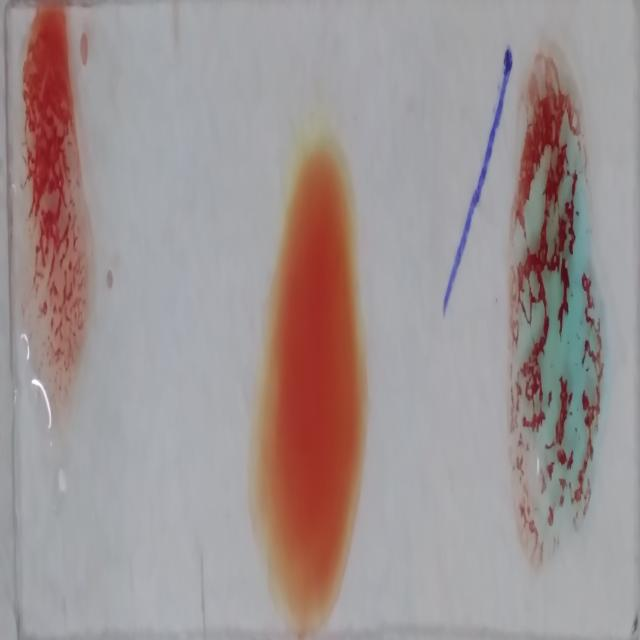A: (507, 74, 602, 578)
D: (14, 10, 96, 391)
